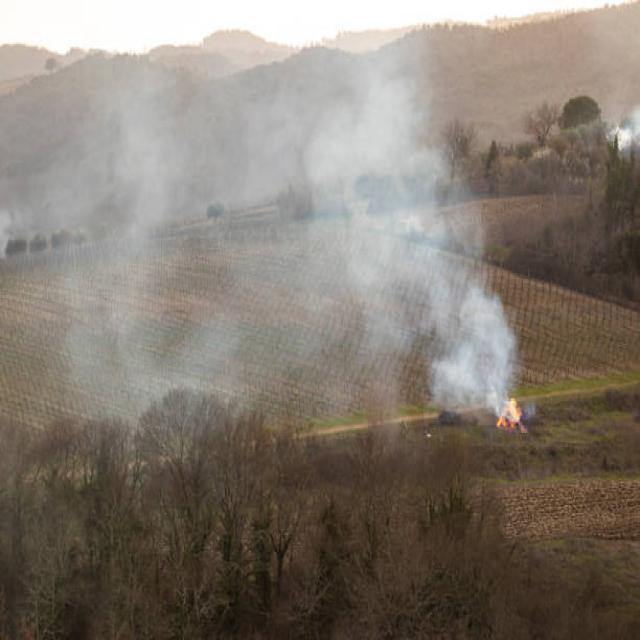Fire: (495, 398, 528, 429)
Smoke: (400, 192, 518, 416)
